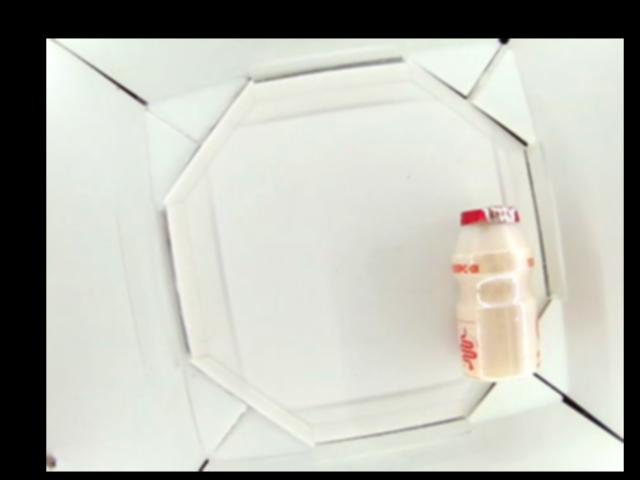Bottle: (450, 207, 540, 379)
